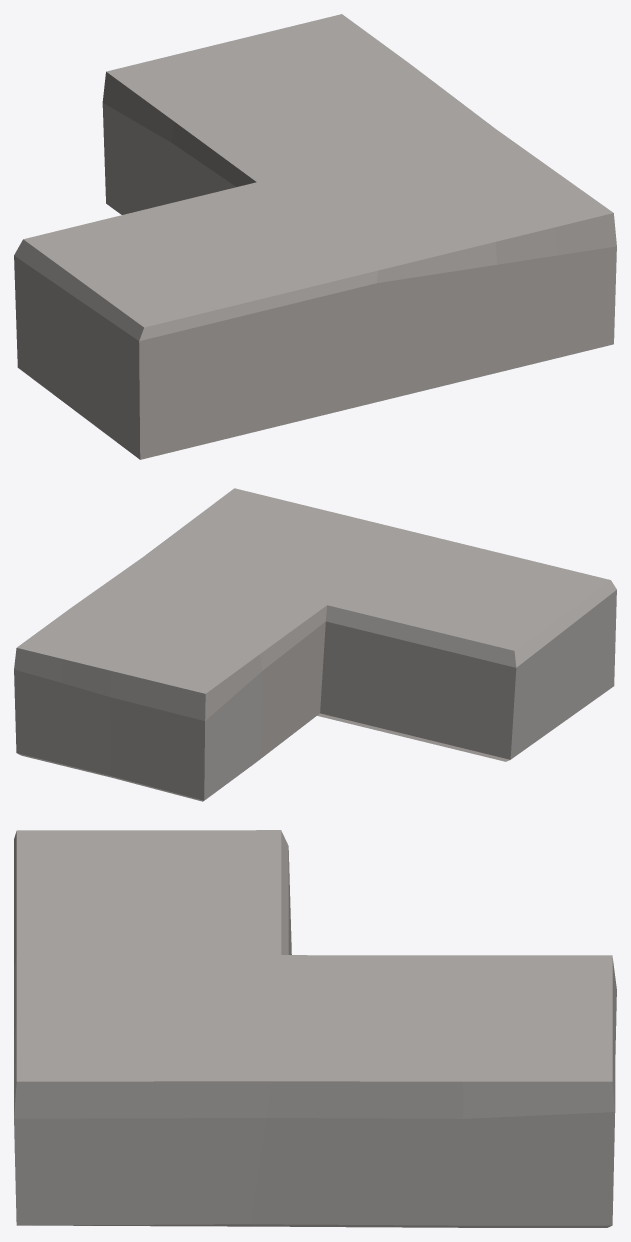
Rendered from wall.fbx.
The picture shows the model from 3 angles, top to bottom: view 1: azimuth 30°, elevation 25°; view 2: azimuth 150°, elevation 25°; view 3: azimuth 270°, elevation 25°; orthographic projection. The views are drawn at different scales.
Visible parts, largest first — view 1: base-L-2x2; view 2: base-L-2x2; view 3: base-L-2x2.
Part boxes in pixels (x1,y1,x2,y2): base-L-2x2: [14, 14, 616, 459]; base-L-2x2: [14, 488, 616, 801]; base-L-2x2: [14, 830, 616, 1227].
Bounding box in the file's own units: 1.11 × 4.05 × 4.04.
